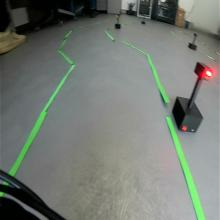red: (194, 62, 213, 82)
